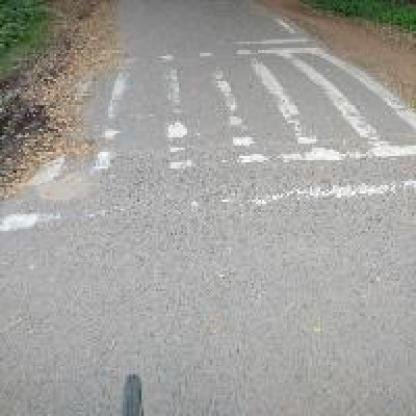Speed Bump: (89, 40, 412, 216)
